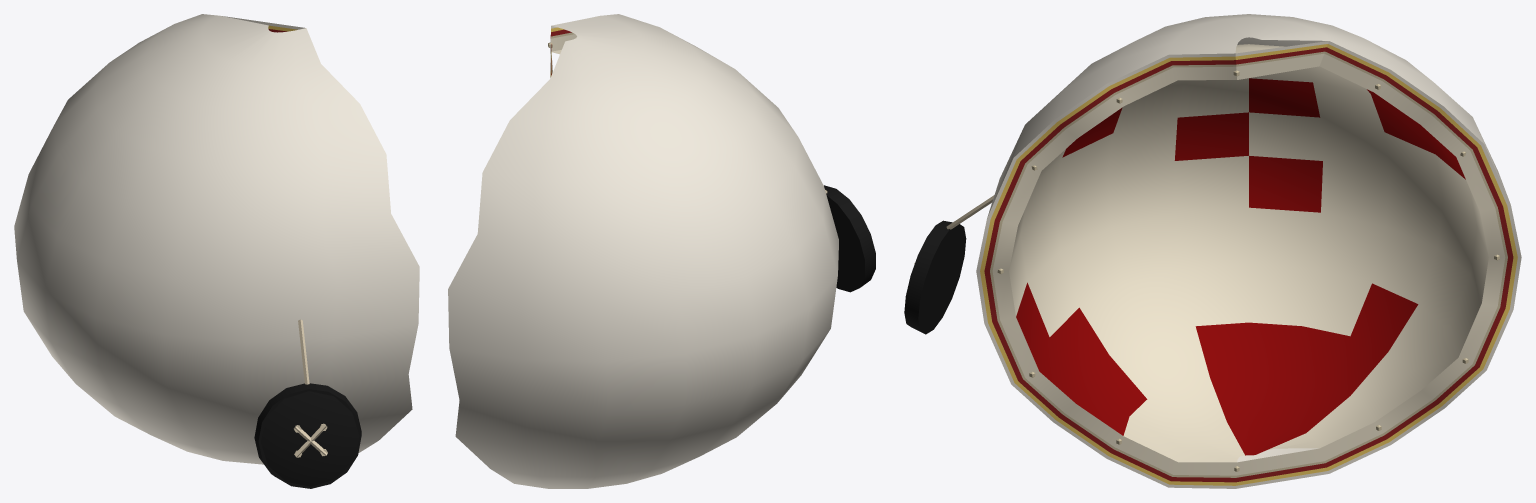
The model's file is survivor_skull_R.glb.
The picture shows the model from 3 angles, left to right: view 1: azimuth 30°, elevation 25°; view 2: azimuth 150°, elevation 25°; view 3: azimuth 270°, elevation 25°; orthographic projection. The views are drawn at different scales.
Visible parts, largest first — view 1: survivor_skull_R, eye_R.001; view 2: survivor_skull_R, eye_R.001; view 3: survivor_skull_R, eye_R.001.
Boxes of the visible parts, box(x1,y1,x2,y2) form: survivor_skull_R: box(14, 14, 419, 464); eye_R.001: box(254, 383, 361, 488); survivor_skull_R: box(448, 14, 838, 488); eye_R.001: box(824, 185, 875, 292); survivor_skull_R: box(976, 14, 1521, 488); eye_R.001: box(904, 220, 966, 334).
Bounding box in the file's own units: 0.1388 × 0.2097 × 0.2643.
